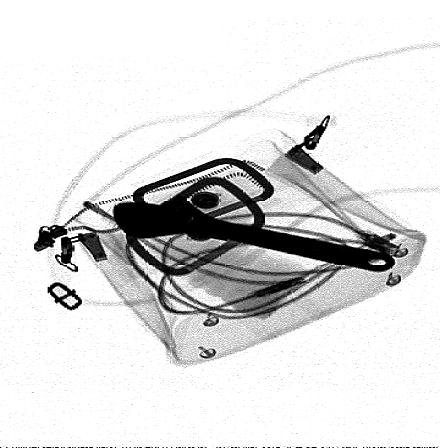Wrench: (114, 191, 398, 272)
